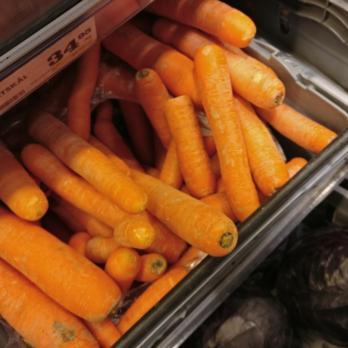Carrot: (60, 75, 239, 263), (134, 9, 301, 180), (0, 130, 118, 348)
